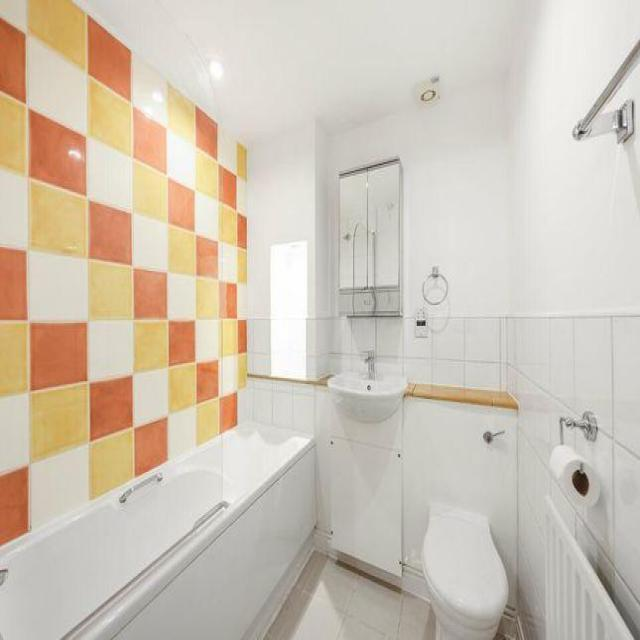Wall: (0, 0, 246, 545), (333, 292, 640, 637), (314, 0, 640, 315), (77, 1, 516, 142), (249, 120, 330, 376), (266, 551, 435, 640), (249, 379, 334, 535)
